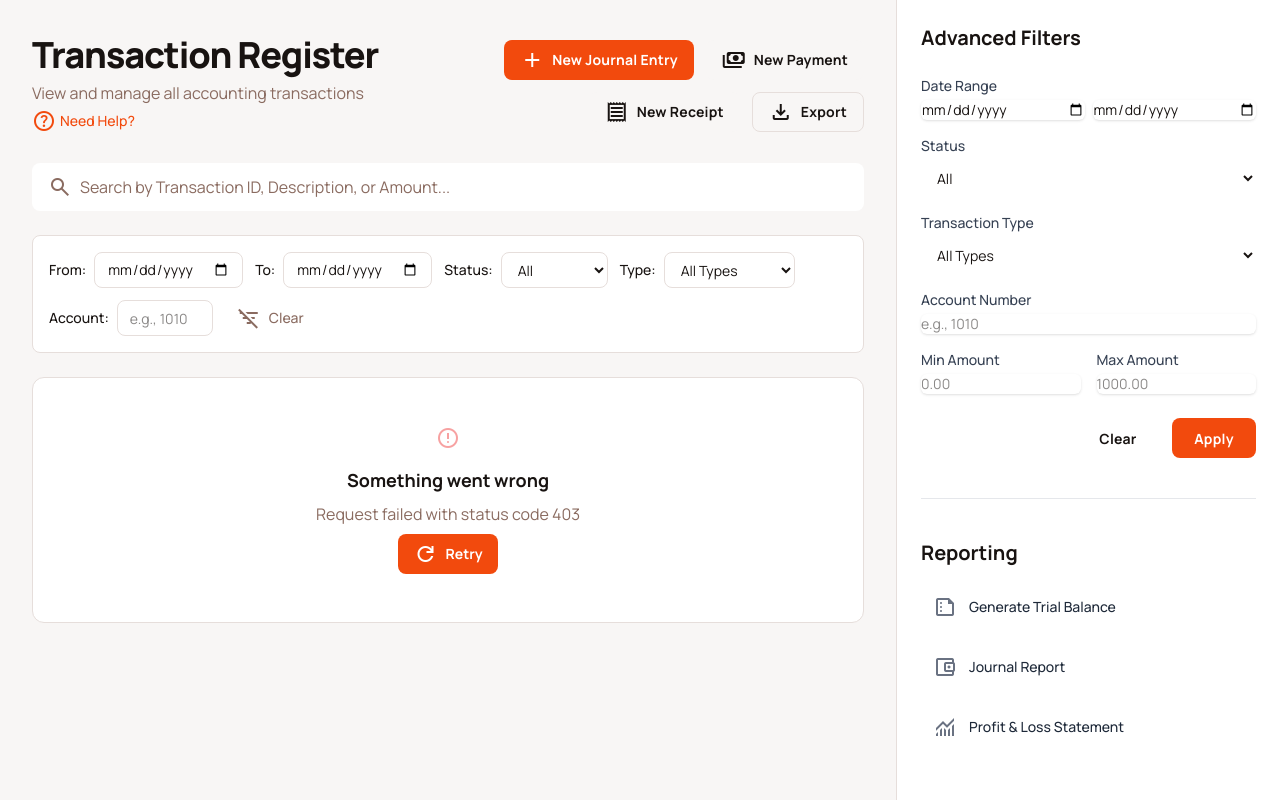
Test: TransactionRegisterPage — Export feedback (SOUPFIN-19) › shows an error toast when the transactions query failed
This screenshot has width=1280, height=800.
Click the button with test id "export-button". click: [808, 112]
box: [752,92,864,132]
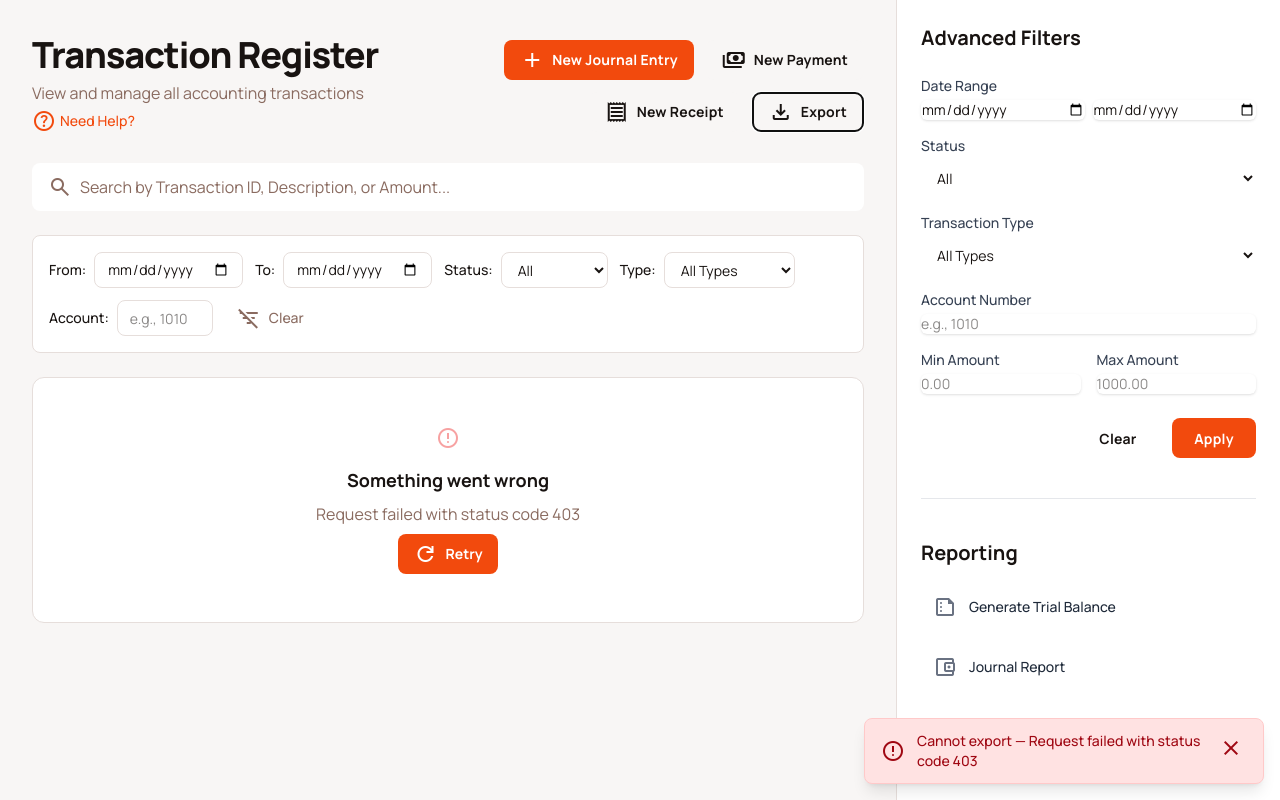
Expected: the text "Cannot export — Request failed with status code 403" is shown, [917,731,1203,771]
